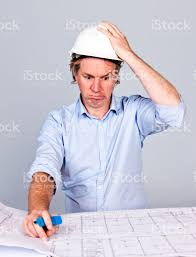Person_wearing_helmet: (68, 20, 133, 78)
